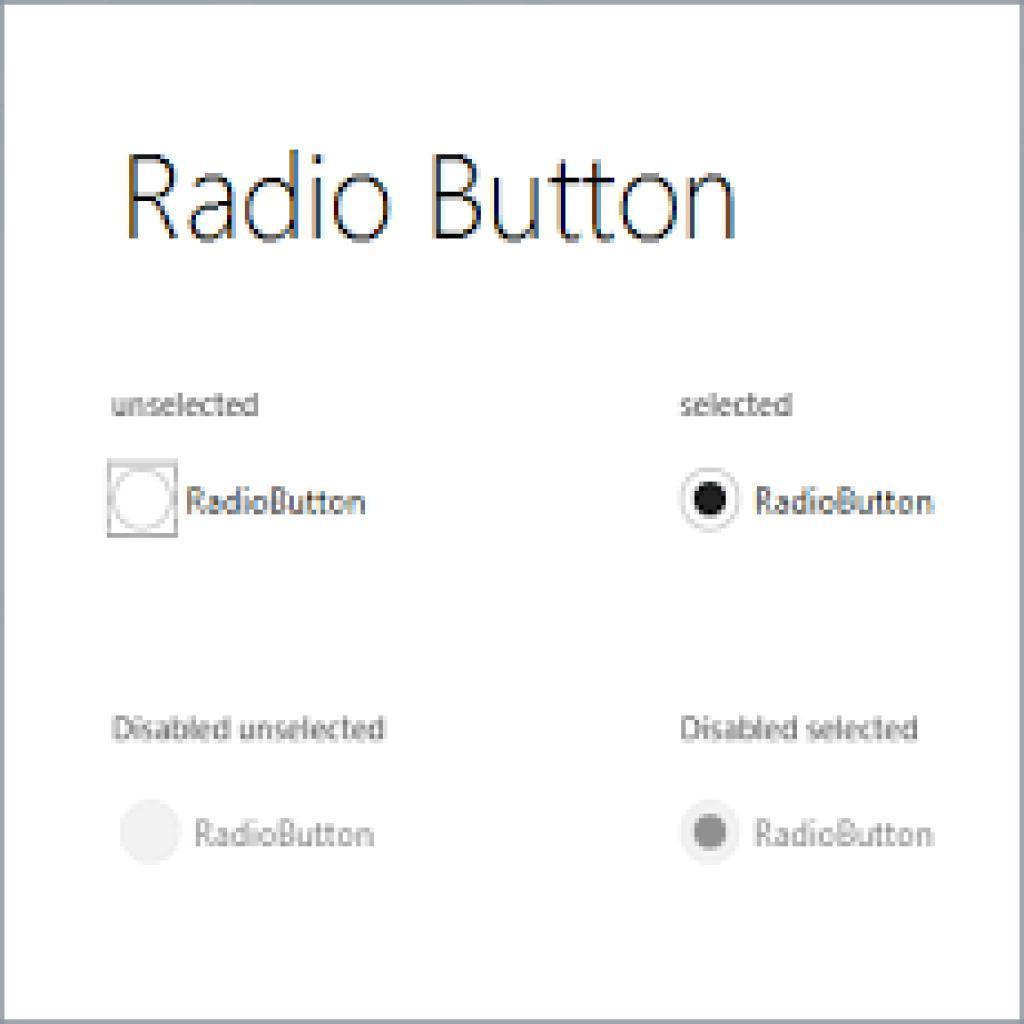label: (191, 817, 381, 863), (755, 481, 935, 527), (754, 815, 938, 859), (185, 482, 374, 524)
radio: (107, 463, 179, 535), (117, 801, 185, 873), (681, 460, 741, 541), (678, 796, 746, 867)
